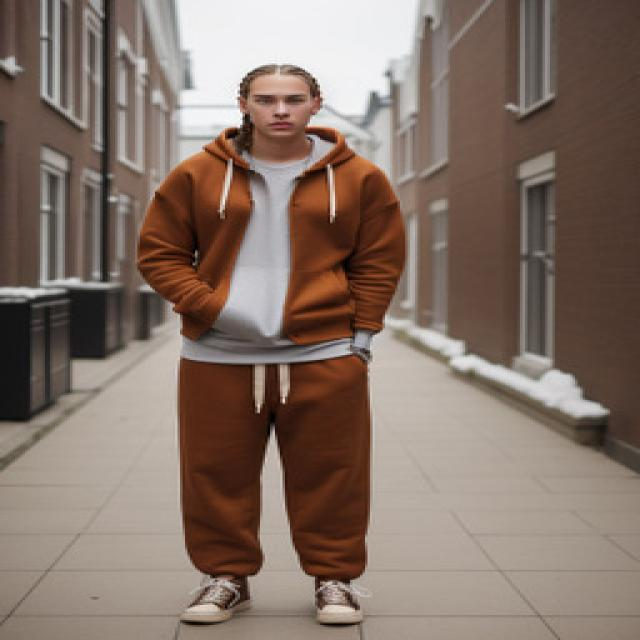Ai human 2: (126, 55, 414, 634)
